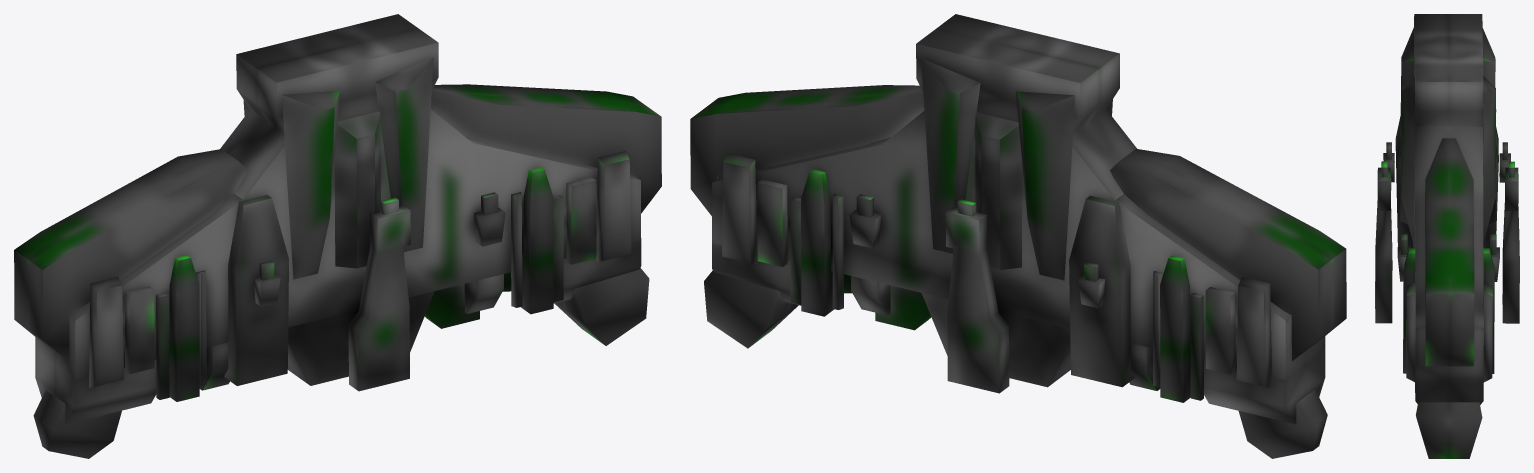
File: green_spaceship_02.fbx
3 views of the same model, side by side, from view 1: azimuth 30°, elevation 25°; view 2: azimuth 150°, elevation 25°; view 3: azimuth 270°, elevation 25° (orthographic). The views are drawn at different scales.
Parts seen in each view (by area): view 1: UnionFlagshipMod; view 2: UnionFlagshipMod; view 3: UnionFlagshipMod.
Part boxes in pixels (<box>): UnionFlagshipMod: <box>14,14,661,458</box>; UnionFlagshipMod: <box>690,14,1346,458</box>; UnionFlagshipMod: <box>1375,14,1519,458</box>.
Bounding box in the file's own units: 2502 × 589 × 1354.
